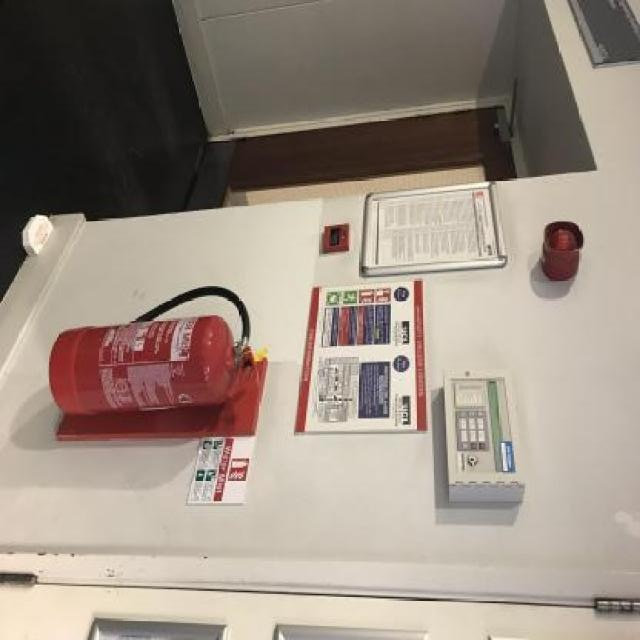fire extinguisher: (50, 285, 264, 418)
